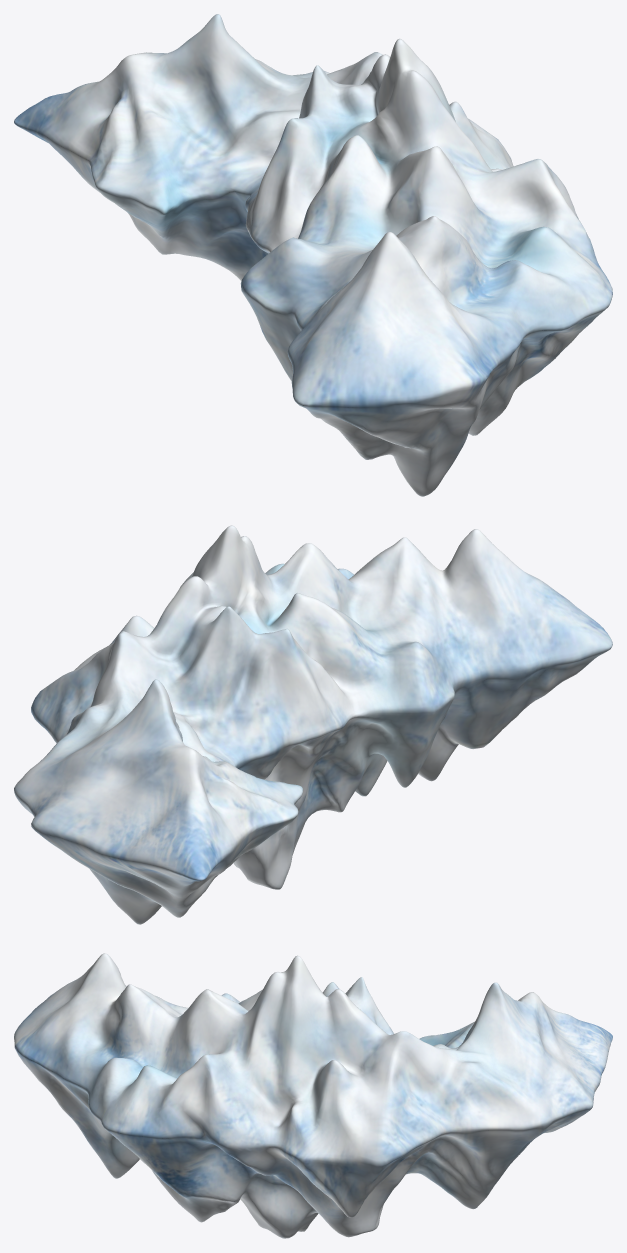
Rendered from shan1.fbx.
3 renders of one model, top to bottom at view 1: azimuth 30°, elevation 25°; view 2: azimuth 150°, elevation 25°; view 3: azimuth 270°, elevation 25°, orthographic. The views are drawn at different scales.
Visible parts, largest first — view 1: shan4:Group40257; view 2: shan4:Group40257; view 3: shan4:Group40257.
Boxes of the visible parts, box(x1,y1,x2,y2) form: shan4:Group40257: box(14, 14, 612, 496); shan4:Group40257: box(14, 525, 612, 924); shan4:Group40257: box(14, 953, 612, 1238).
Bounding box in the file's own units: 246 × 216 × 404.
Materials: 1 (1 with a texture image).
